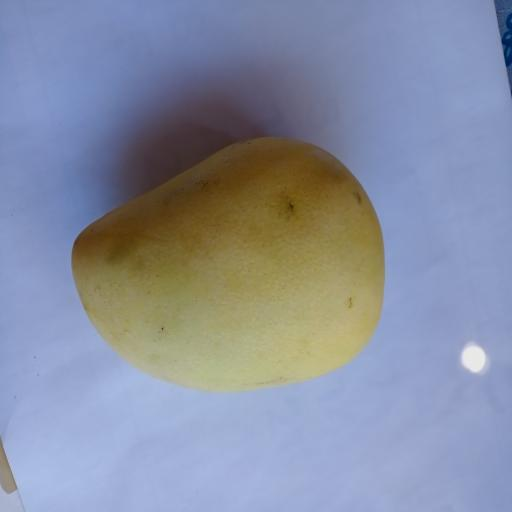mango-ripe: (52, 113, 411, 413)
